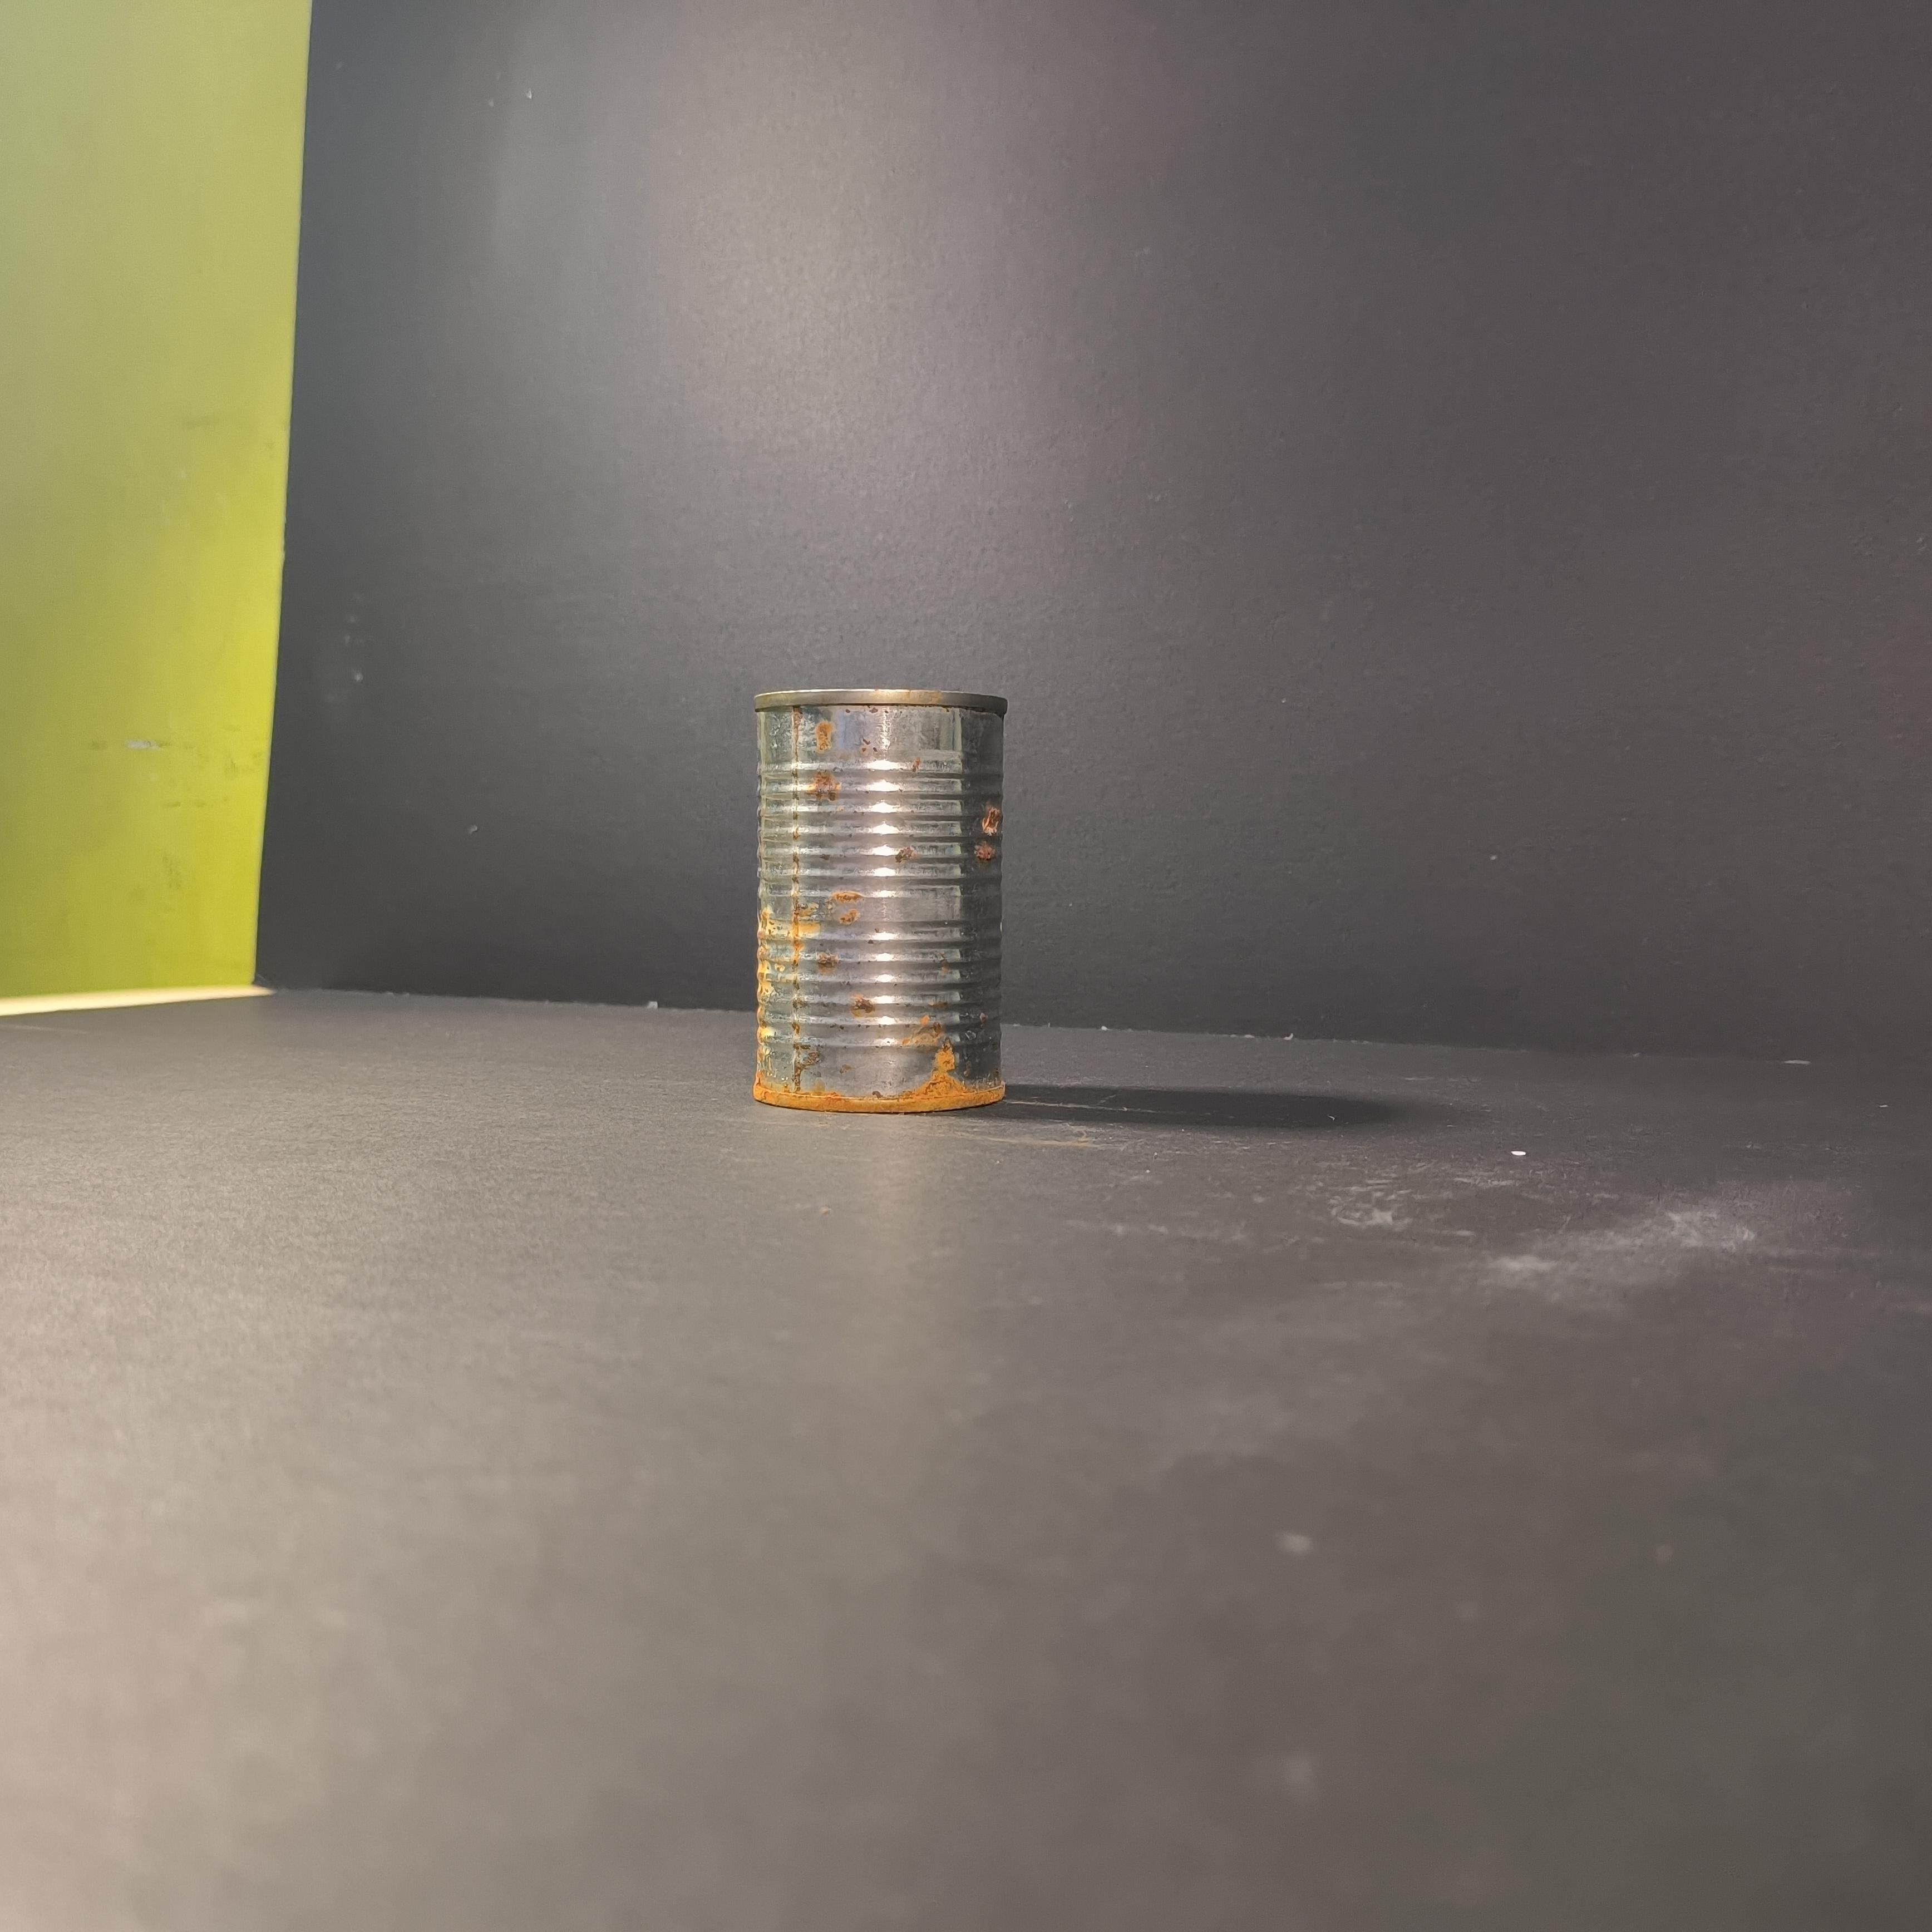Rusted: (732, 671, 1046, 1141)
